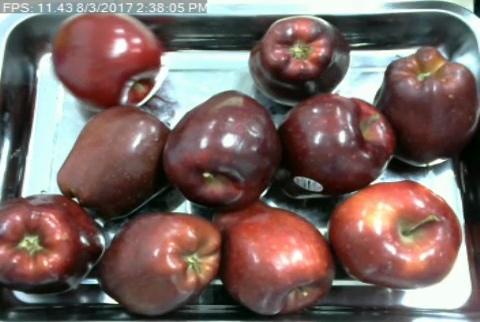Apple: (208, 193, 336, 322), (325, 178, 464, 293), (159, 89, 285, 214), (269, 91, 396, 209), (95, 207, 224, 321), (54, 104, 177, 218), (373, 42, 480, 170), (49, 5, 171, 114), (0, 191, 110, 296), (247, 12, 354, 105)
